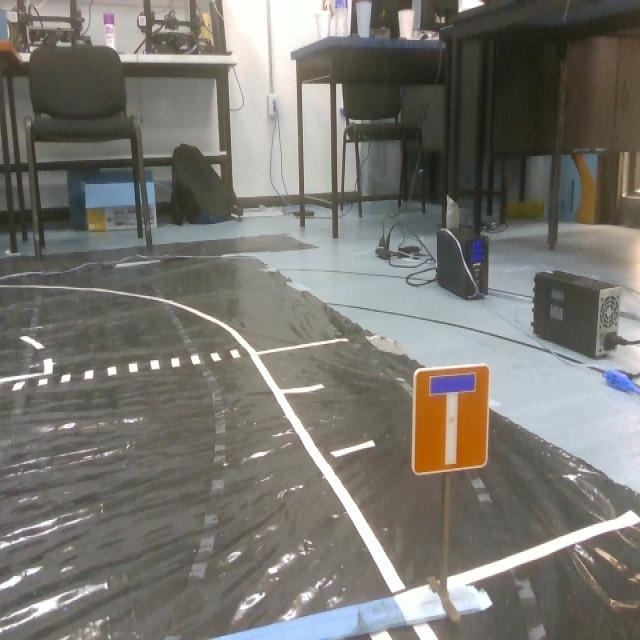stop: (413, 360, 492, 480)
